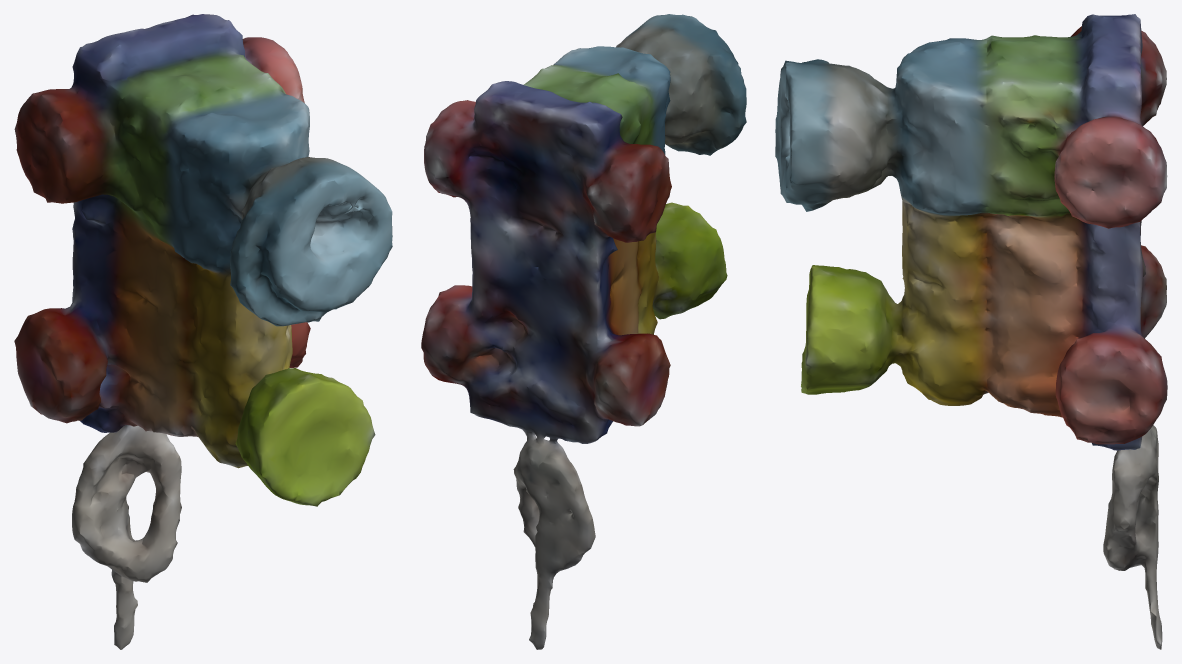
The model's file is train.glb.
3 views of the same model, side by side, from view 1: azimuth 30°, elevation 25°; view 2: azimuth 150°, elevation 25°; view 3: azimuth 270°, elevation 25° (orthographic). The views are drawn at different scales.
Bounding box in the file's own units: 0.4201 × 0.9968 × 0.5732.
